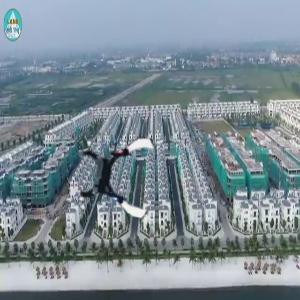drone: (76, 133, 162, 219)
